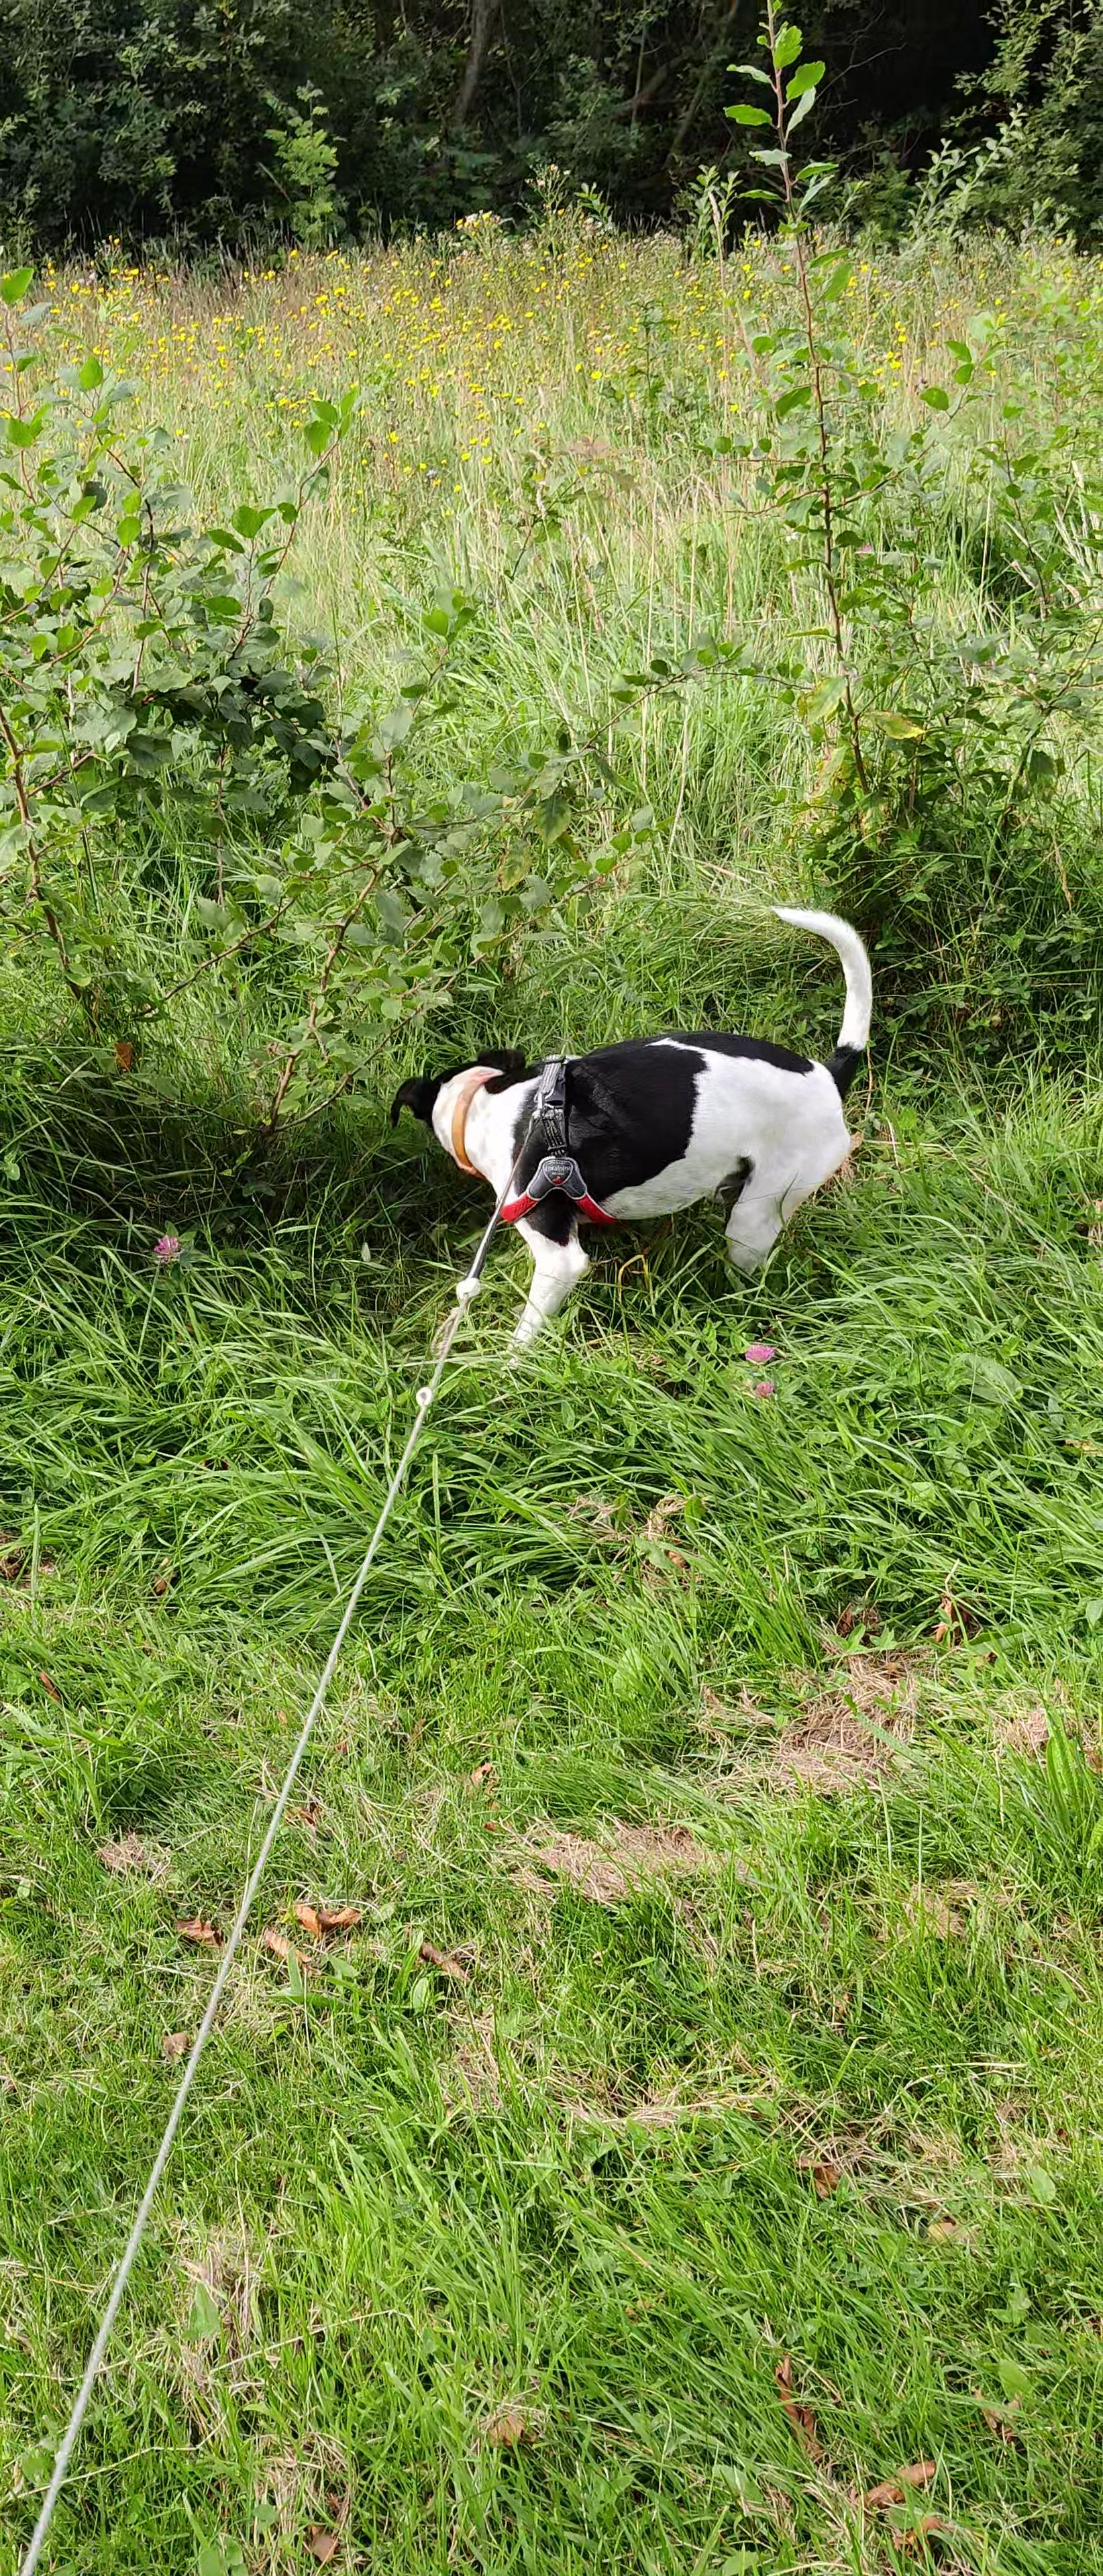Dog: (383, 905, 879, 1367)
